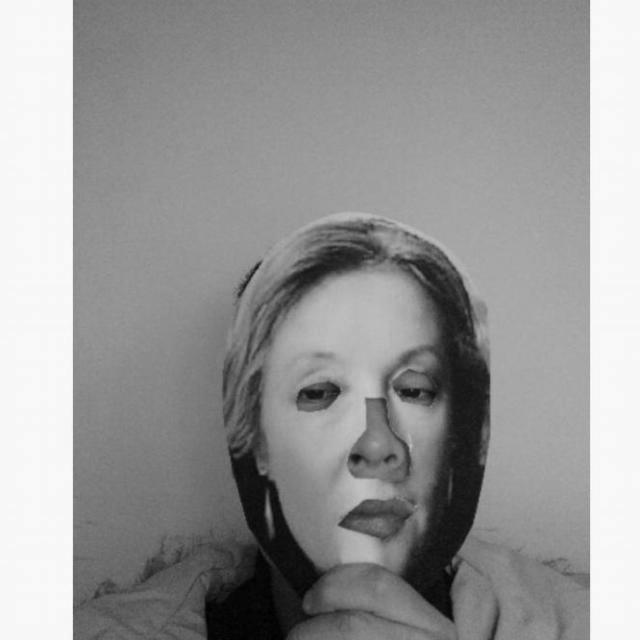fake: (217, 211, 496, 618)
